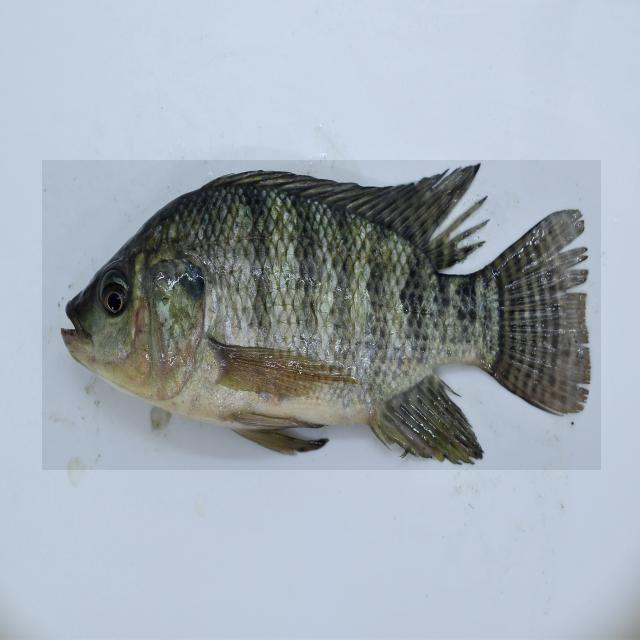Columnaris Disease: (42, 160, 601, 470)
